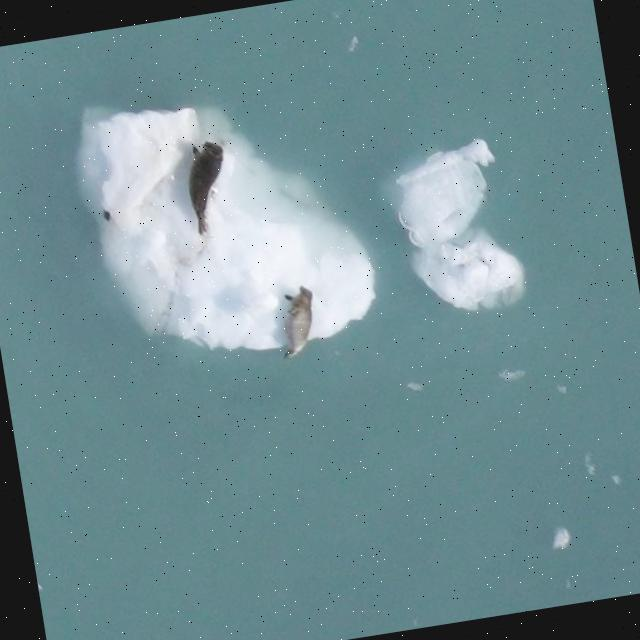seal: (176, 137, 228, 239), (283, 287, 315, 358)
